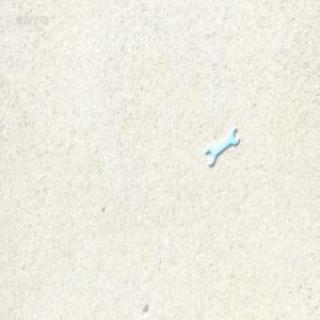Wrenchtrack_idkeyframe: (204, 128, 236, 166)
